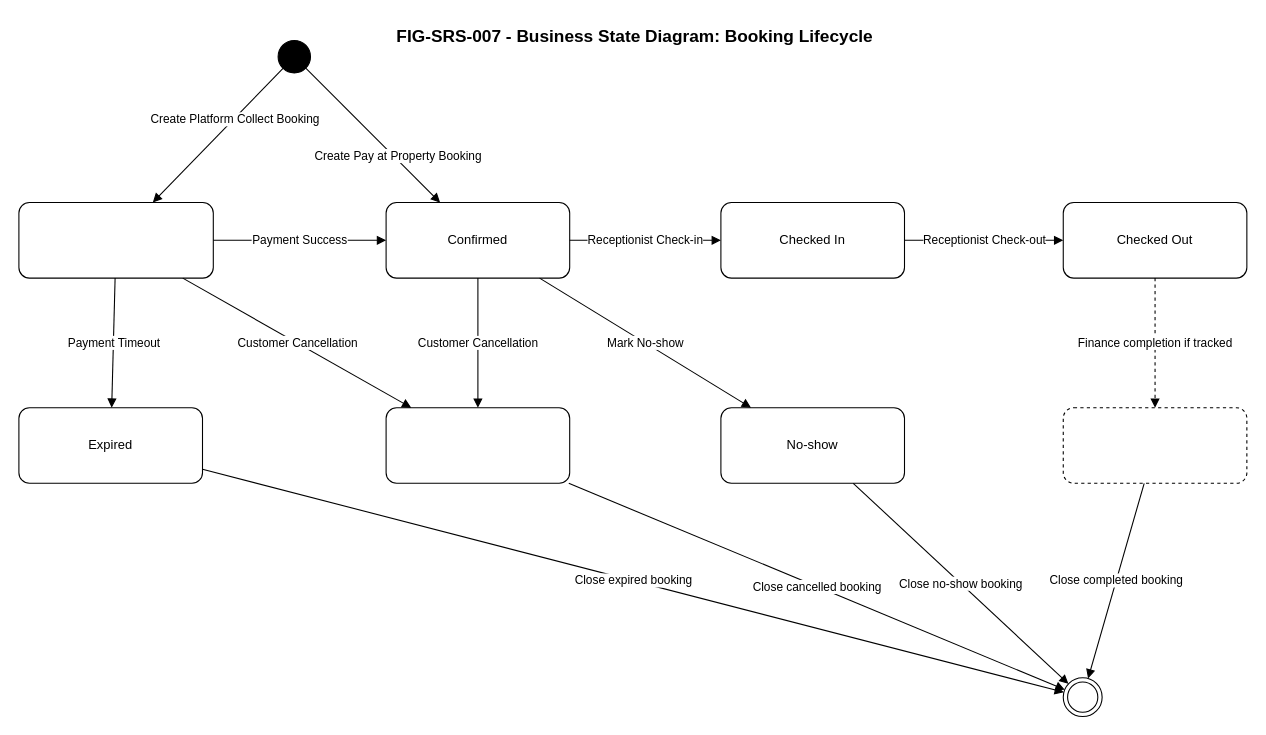
This 1266x735 diagram has some shape labels left out. Each missing label, with the centre of its shape:
Cancelled: the point at 477,445
Completed (reporting): the point at 1154,445
Pending Payment: the point at 115,239
